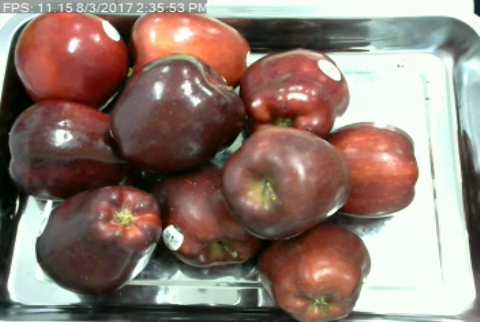Apple: (107, 51, 248, 173), (31, 181, 163, 298), (221, 124, 351, 241), (7, 95, 126, 206), (255, 220, 376, 320), (10, 8, 131, 108), (152, 159, 261, 269), (238, 45, 349, 139), (124, 8, 255, 86), (327, 120, 421, 220)
